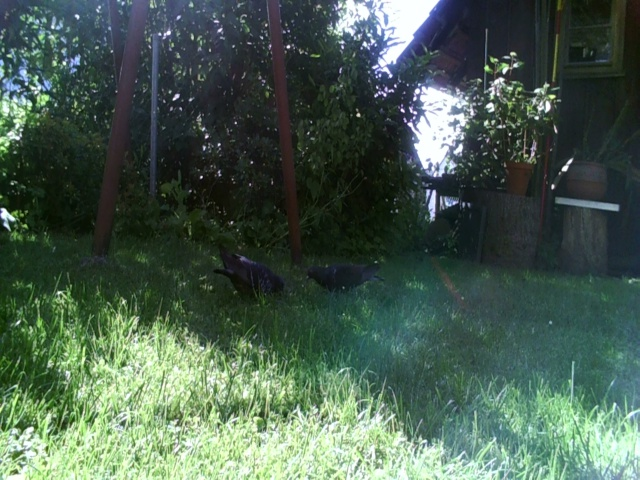Pigeon: (212, 245, 282, 302), (305, 255, 385, 294)
